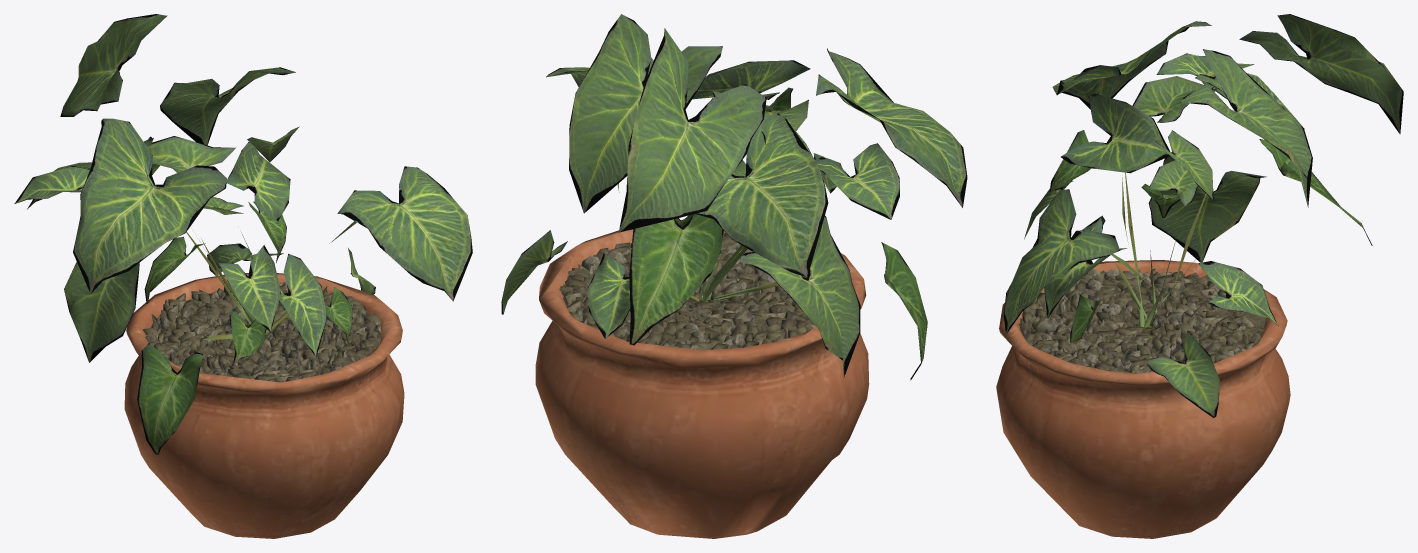
File: potted_plant_02.778638fe.glb
3 renders of one model, left to right at view 1: azimuth 30°, elevation 25°; view 2: azimuth 150°, elevation 25°; view 3: azimuth 270°, elevation 25°, orthographic. The views are drawn at different scales.
Visible parts, largest first — view 1: potted_plant_02_leaves, potted_plant_02_pot, potted_plant_02_dirt; view 2: potted_plant_02_leaves, potted_plant_02_pot, potted_plant_02_dirt; view 3: potted_plant_02_leaves, potted_plant_02_pot, potted_plant_02_dirt.
Boxes of the visible parts, x1,y1,x2,y2 form: potted_plant_02_leaves: [14, 14, 472, 454]; potted_plant_02_pot: [124, 273, 404, 538]; potted_plant_02_dirt: [142, 282, 382, 381]; potted_plant_02_leaves: [501, 14, 967, 380]; potted_plant_02_pot: [535, 229, 869, 538]; potted_plant_02_dirt: [559, 232, 815, 349]; potted_plant_02_leaves: [1003, 14, 1403, 417]; potted_plant_02_pot: [996, 260, 1290, 538]; potted_plant_02_dirt: [1018, 268, 1265, 373].
Size of the model in its own units: 0.772 by 0.9247 by 0.72.
Materials: 2 (2 with a texture image).
